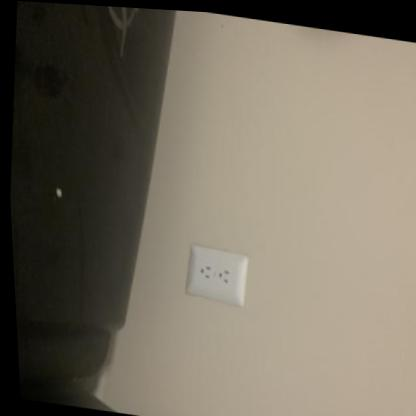OUTLET: (185, 244, 251, 302)
